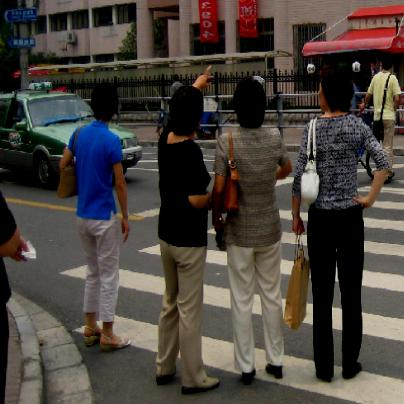ped: (293, 64, 391, 381), (215, 79, 293, 384), (158, 65, 221, 392), (59, 83, 131, 349), (362, 53, 404, 179)
